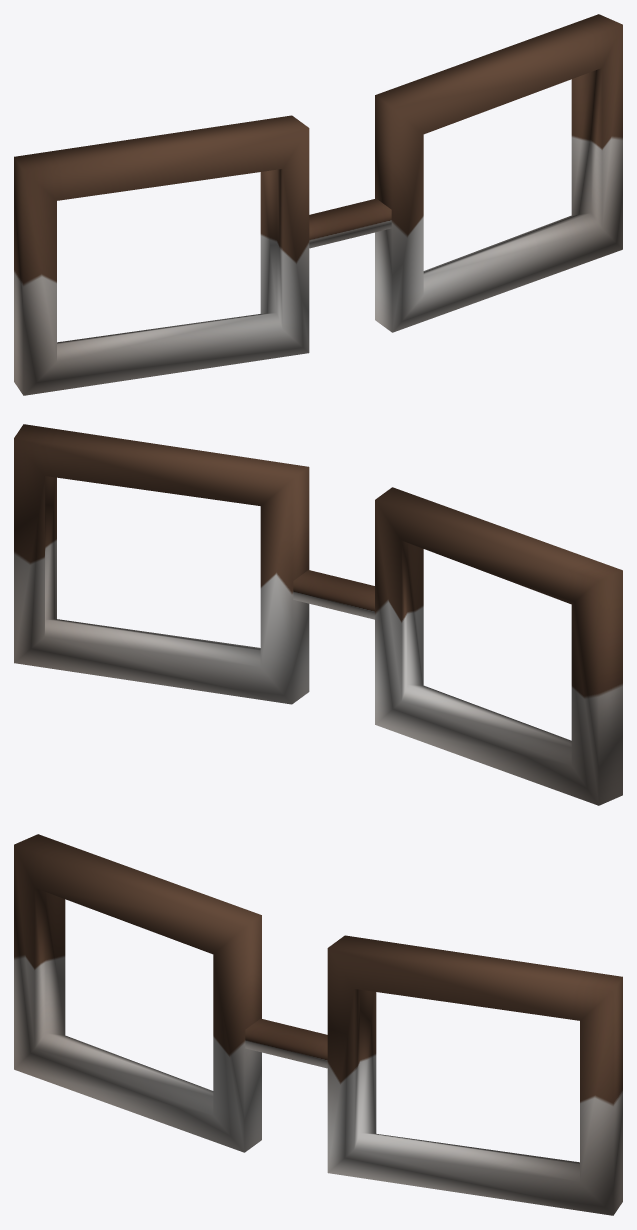
File: GlassesA.fbx
3 renders of one model, top to bottom at view 1: azimuth 30°, elevation 25°; view 2: azimuth 150°, elevation 25°; view 3: azimuth 330°, elevation 25°, orthographic.
Visible parts, largest first — view 1: GlassesA; view 2: GlassesA; view 3: GlassesA.
Part boxes in pixels (x1=…): GlassesA: x1=14, y1=14, x2=622, y2=395; GlassesA: x1=14, y1=424, x2=622, y2=805; GlassesA: x1=14, y1=834, x2=622, y2=1215.
Bounding box in the file's own units: 28.93 × 10.37 × 3.91.
